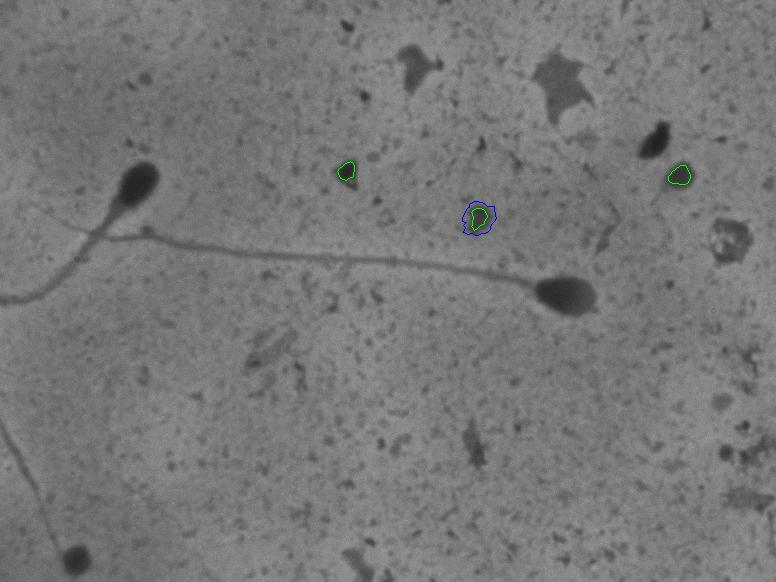Normal: (17, 189, 607, 327)
